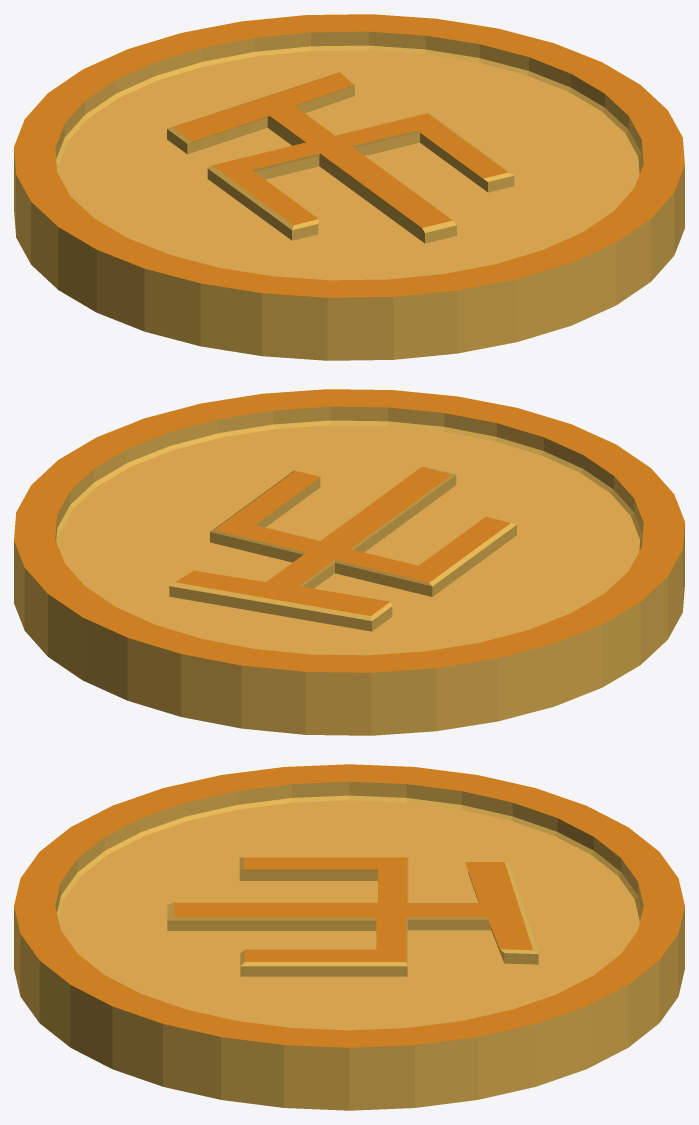
File: Coin.fbx
The picture shows the model from 3 angles, top to bottom: view 1: azimuth 30°, elevation 25°; view 2: azimuth 150°, elevation 25°; view 3: azimuth 270°, elevation 25°; orthographic projection.
Parts seen in each view (by area): view 1: Cylinder; view 2: Cylinder; view 3: Cylinder.
Part boxes in pixels (<box>): Cylinder: <box>14,14,684,360</box>; Cylinder: <box>14,389,684,735</box>; Cylinder: <box>14,764,684,1110</box>.
Size of the model in its own units: 200 by 20.69 by 200.
